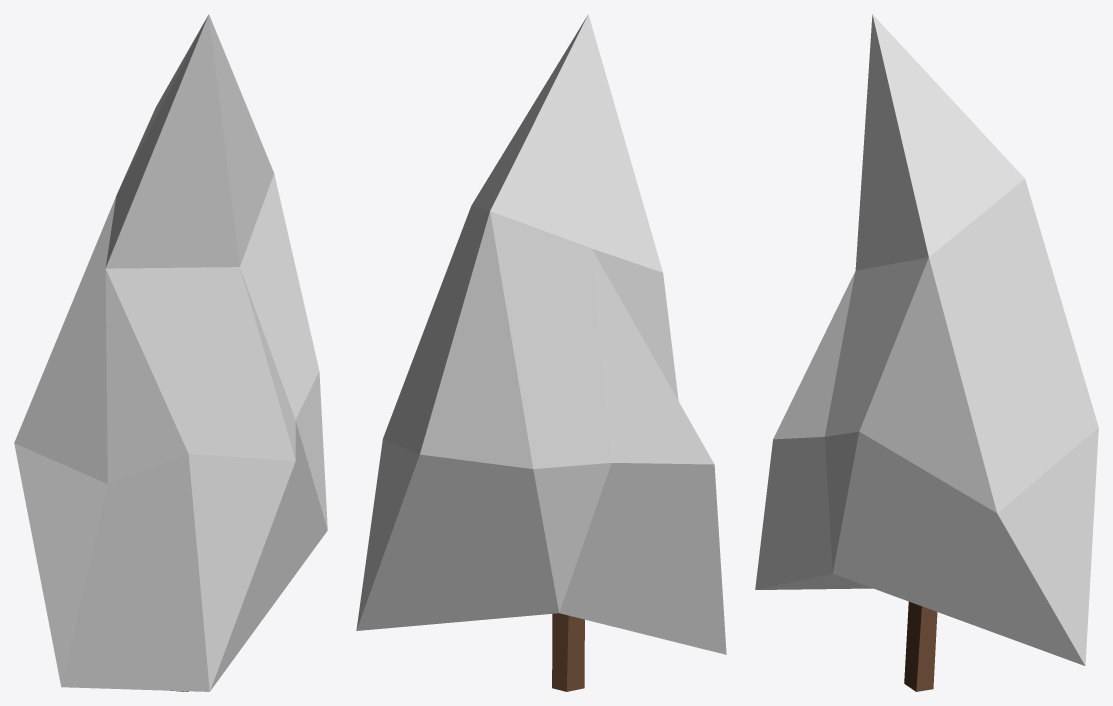
File: TreeWinter8_Alt4.fbx
The picture shows the model from 3 angles, left to right: view 1: azimuth 30°, elevation 25°; view 2: azimuth 150°, elevation 25°; view 3: azimuth 270°, elevation 25°; orthographic projection. The views are drawn at different scales.
Visible parts, largest first — view 1: TreeWinter8_Alt4; view 2: TreeWinter8_Alt4; view 3: TreeWinter8_Alt4.
Boxes of the visible parts, box(x1,y1,x2,y2) form: TreeWinter8_Alt4: box(14, 14, 327, 691); TreeWinter8_Alt4: box(356, 14, 726, 691); TreeWinter8_Alt4: box(755, 14, 1098, 691).
Size of the model in its own units: 1.31 by 2.73 by 1.27.
